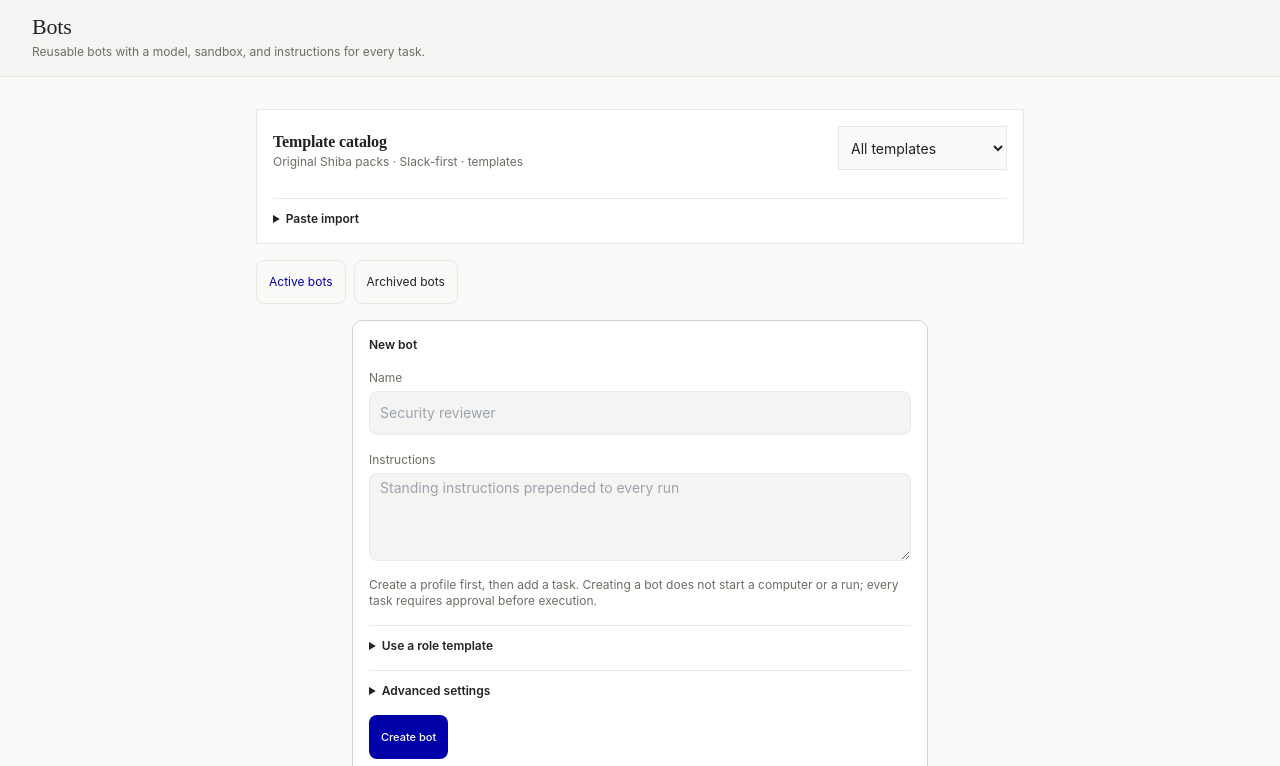
Scenario: CustomAgentsView › requires name and instructions before creating
Click the button "Create bot".
click(409, 737)  # box [369,715,448,759]
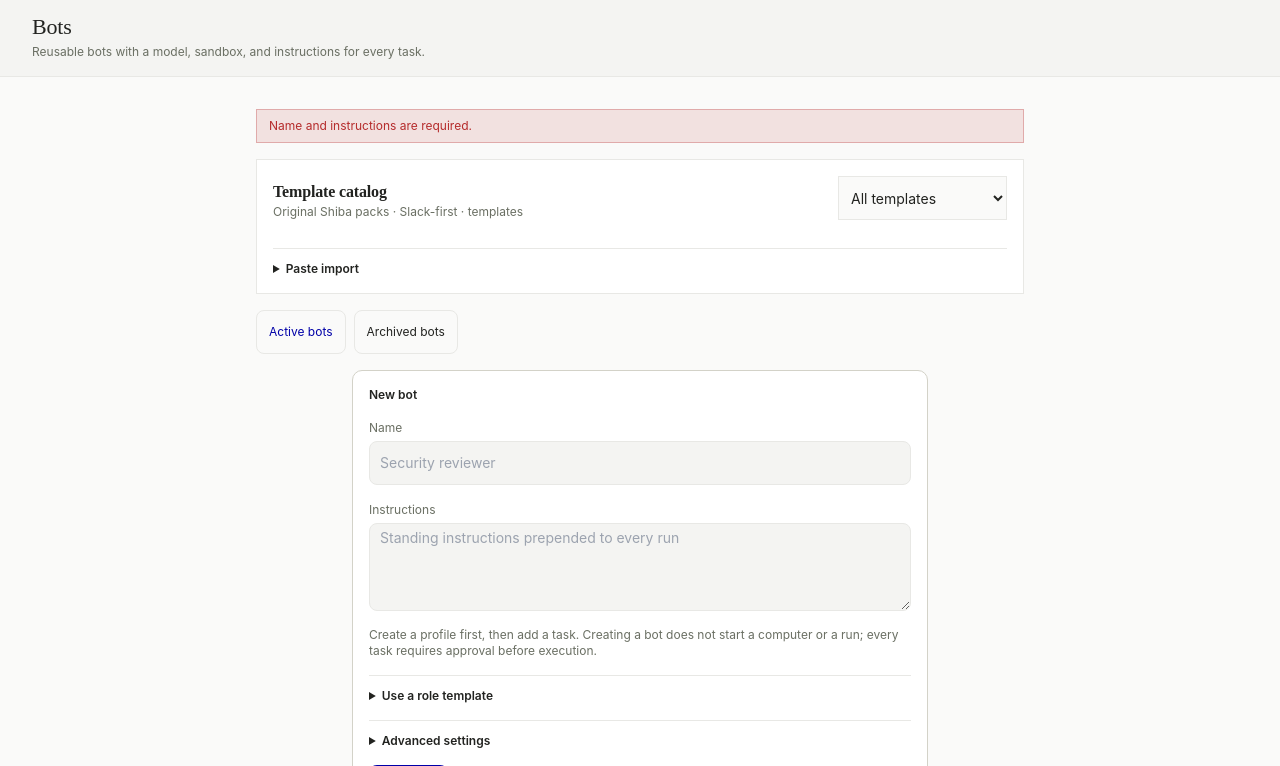
Expected: the message reads "Name and instructions are required.", [269,118,472,133]
